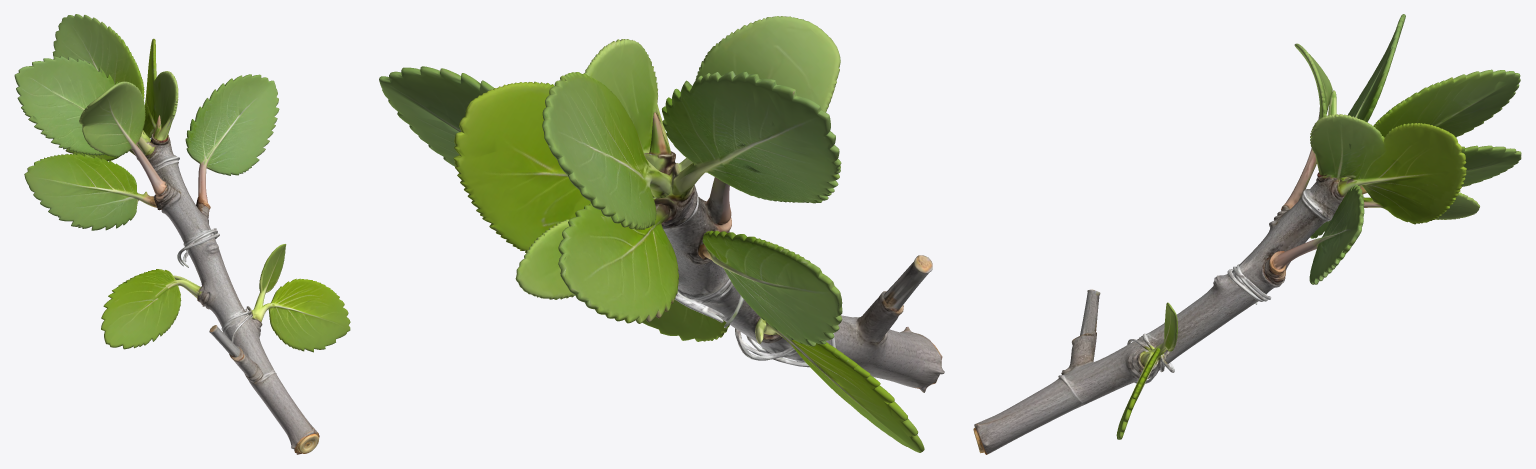
File: duzhong.glb
3 renders of one model, left to right at view 1: azimuth 30°, elevation 25°; view 2: azimuth 150°, elevation 25°; view 3: azimuth 270°, elevation 25°, orthographic. The views are drawn at different scales.
Visible parts, largest first — view 1: node_0; view 2: node_0; view 3: node_0.
Part boxes in pixels (<box>): node_0: <box>14,14,350,454</box>; node_0: <box>379,16,944,452</box>; node_0: <box>973,14,1521,454</box>.
Bounding box in the file's own units: 0.6304 × 0.7372 × 0.9763.
Materials: 1 (1 with a texture image).
